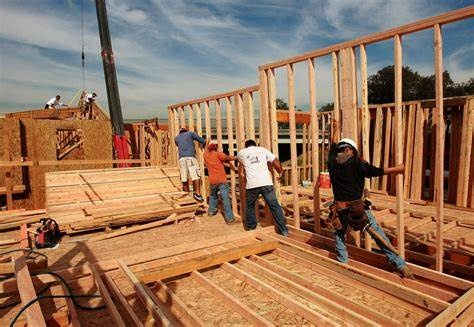red: (206, 139, 217, 151)
white: (335, 136, 358, 157)
